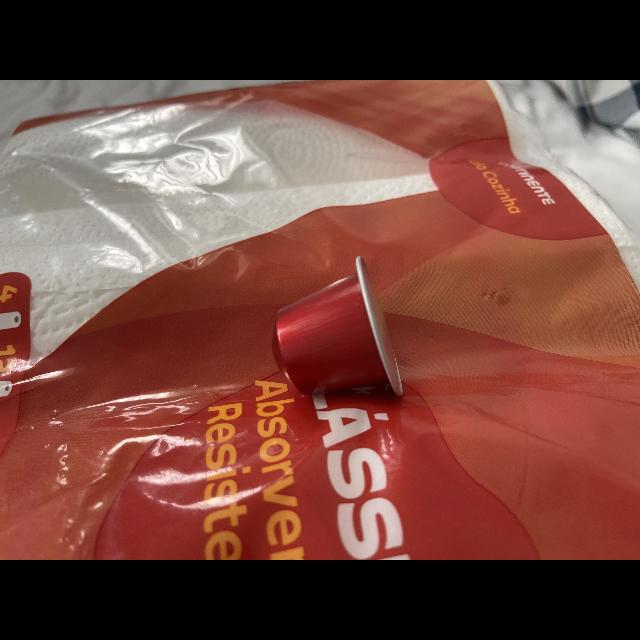intact_capsule: (256, 246, 422, 412)
